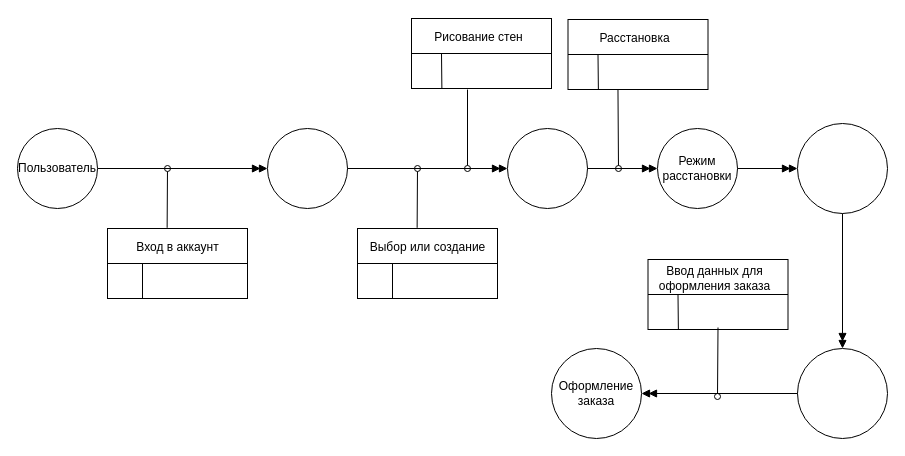
This 905x456 diagram has some shape labels left out. Here are the shapes that lost their labels. From the top down, the box of each, then its label:
(266, 128, 348, 208): Экран лэйаутов
(506, 128, 588, 208): Режим рисовки стен
(796, 122, 888, 214): Просмотр отрендеренной сцены
(796, 348, 888, 438): Просмотр информации о заказе
